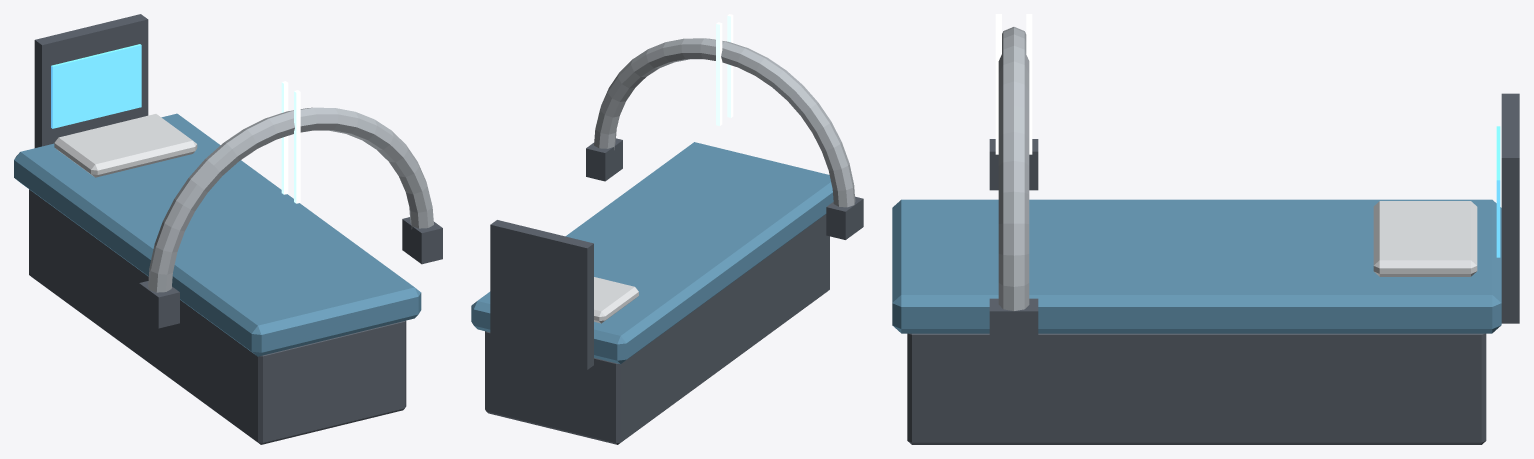
The model's file is spaceship-deck-kit-medbay-bed-2116734f__12584.glb.
The picture shows the model from 3 angles, left to right: view 1: azimuth 30°, elevation 25°; view 2: azimuth 150°, elevation 25°; view 3: azimuth 270°, elevation 25°; orthographic projection. The views are drawn at different scales.
Parts seen in each view (by area): view 1: medbay-bed, scanner/steel, scanner/dark, scanner/glow; view 2: medbay-bed, scanner/steel, scanner/dark, scanner/glow; view 3: medbay-bed, scanner/steel, scanner/dark, scanner/glow.
Boxes of the visible parts, x1,y1,x2,y2 form: medbay-bed: (14,14,421,444); scanner/steel: (148,107,433,292); scanner/dark: (139,217,442,328); scanner/glow: (281,81,300,203); medbay-bed: (471,142,833,444); scanner/steel: (594,38,855,207); scanner/dark: (586,138,863,239); scanner/glow: (716,14,733,125); medbay-bed: (892,93,1519,444); scanner/steel: (998,27,1029,310); scanner/dark: (989,139,1038,349); scanner/glow: (995,14,1032,154).
Bounding box in the file's own units: 1.34 × 1.4 × 2.06.
